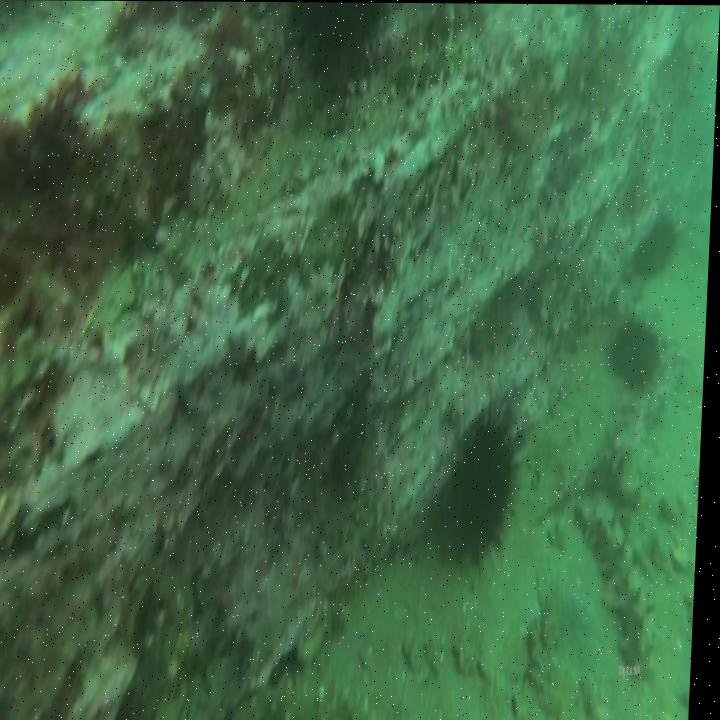echinus: (440, 374, 541, 577), (279, 2, 393, 105), (608, 297, 674, 395), (627, 196, 687, 287)
holothurian: (580, 503, 676, 690), (388, 29, 470, 90)
